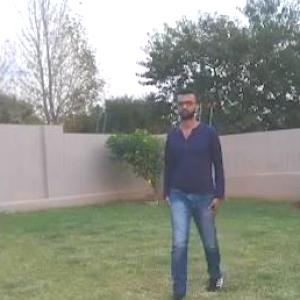follow: (162, 96, 216, 282)
